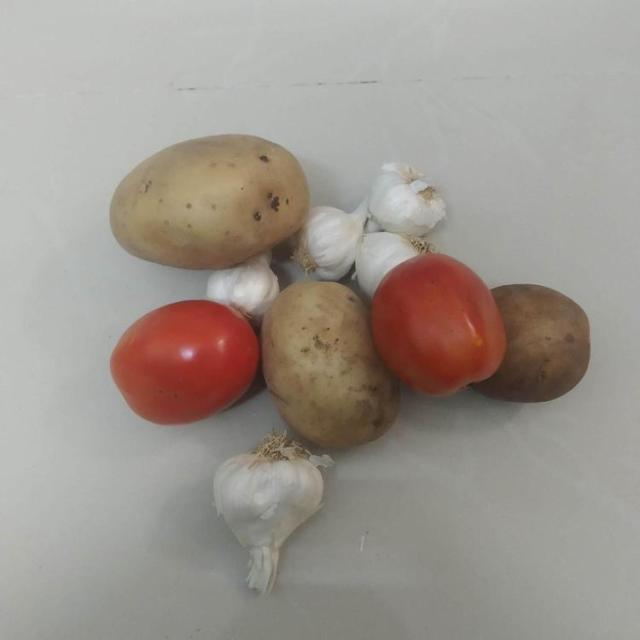Organik: (100, 128, 314, 270), (255, 288, 408, 449), (98, 295, 264, 430), (368, 248, 509, 394), (218, 440, 327, 604), (494, 278, 607, 398), (368, 158, 448, 238), (296, 210, 369, 287)
